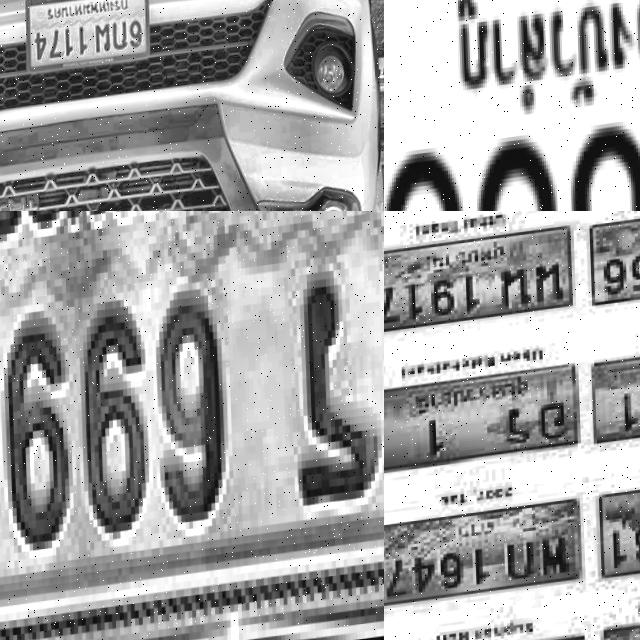license-plate: (0, 211, 384, 640), (384, 0, 640, 211), (384, 506, 582, 614), (384, 369, 579, 477), (384, 233, 570, 338), (22, 0, 151, 82), (590, 344, 640, 455), (589, 213, 640, 315), (596, 477, 640, 590)
